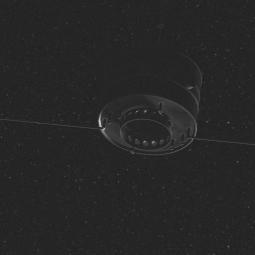double_start: (86, 43, 213, 164)
